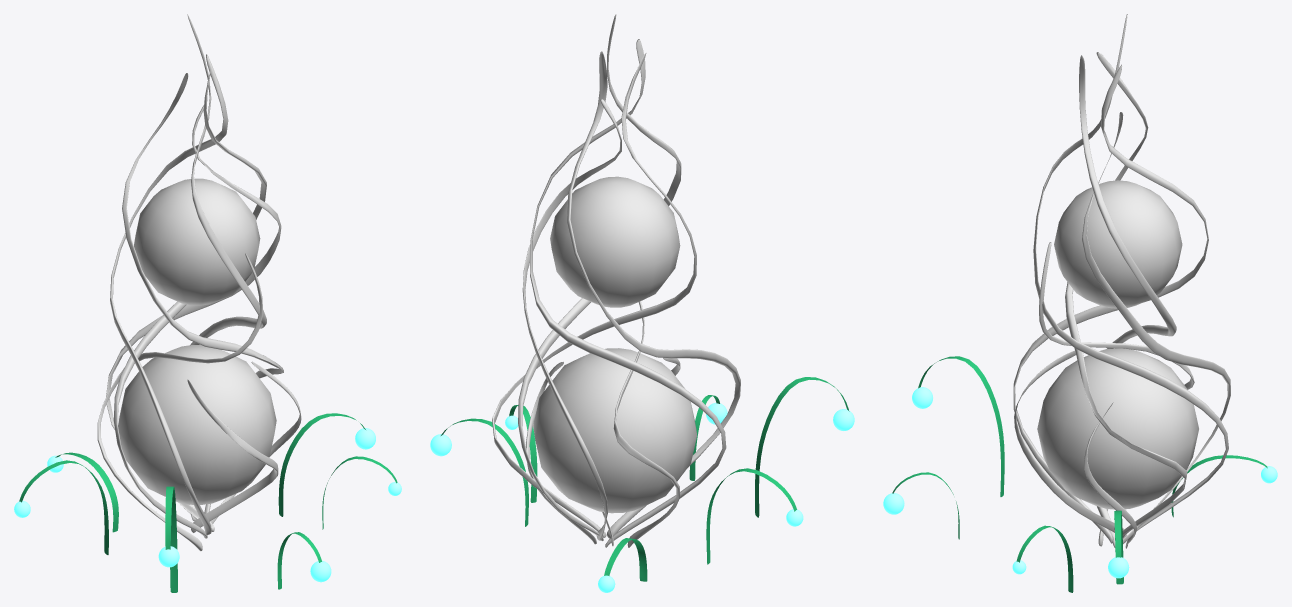
The model's file is Green orb plant.fbx.
3 views of the same model, side by side, from view 1: azimuth 30°, elevation 25°; view 2: azimuth 150°, elevation 25°; view 3: azimuth 270°, elevation 25° (orthographic). The views are drawn at different scales.
Parts seen in each view (by area): view 1: Sphere, Cylinder.016, Cylinder.019, Sphere.003; view 2: Sphere, Cylinder.016, Cylinder.019, Sphere.003; view 3: Sphere, Cylinder.016, Cylinder.019, Sphere.003.
Boxes of the visible parts, bbox=[...] form: Sphere: bbox=[118, 178, 276, 504]; Cylinder.016: bbox=[97, 14, 301, 551]; Cylinder.019: bbox=[19, 413, 397, 592]; Sphere.003: bbox=[14, 428, 401, 582]; Sphere: bbox=[533, 176, 696, 513]; Cylinder.016: bbox=[492, 14, 740, 547]; Cylinder.019: bbox=[441, 377, 849, 581]; Sphere.003: bbox=[430, 402, 854, 592]; Sphere: bbox=[1037, 180, 1198, 509]; Cylinder.016: bbox=[1013, 14, 1230, 548]; Cylinder.019: bbox=[892, 356, 1267, 592]; Sphere.003: bbox=[883, 387, 1277, 578].
Bounding box in the file's own units: 5419 × 7601 × 5105.
